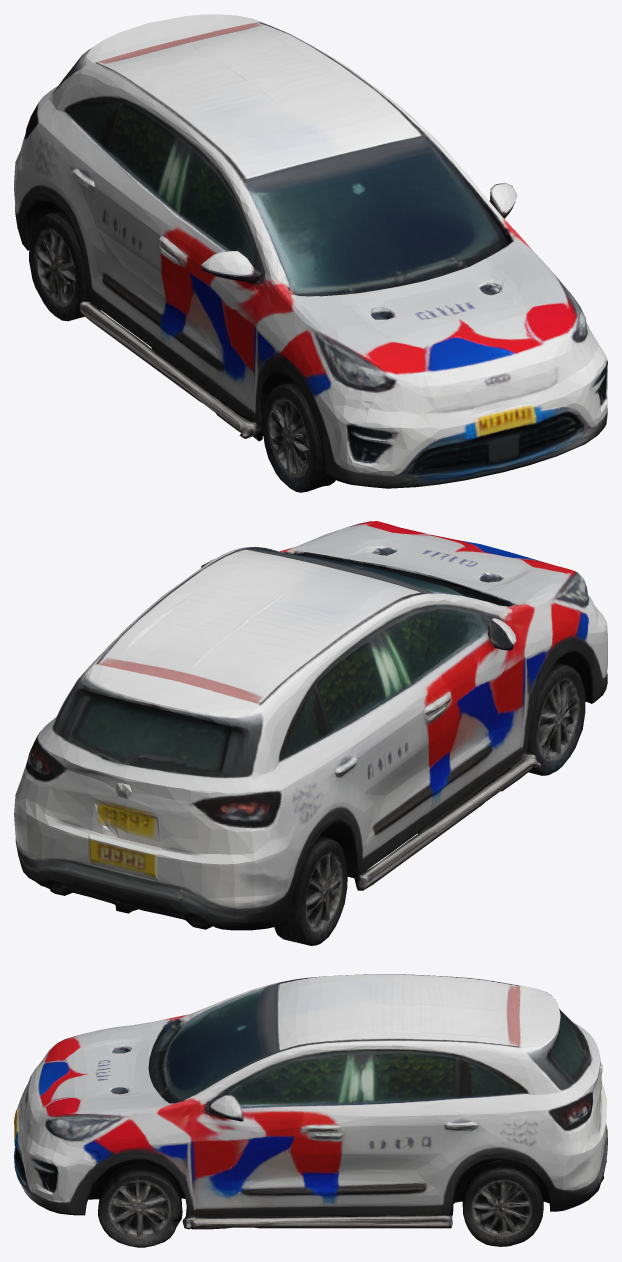
Rendered from car5.glb.
The picture shows the model from 3 angles, top to bottom: view 1: azimuth 30°, elevation 25°; view 2: azimuth 150°, elevation 25°; view 3: azimuth 270°, elevation 25°; orthographic projection. The views are drawn at different scales.
Parts seen in each view (by area): view 1: world; view 2: world; view 3: world.
Boxes of the visible parts, bbox=[...] form: world: bbox=[14, 14, 607, 492]; world: bbox=[14, 521, 607, 945]; world: bbox=[14, 974, 607, 1247].
Size of the model in its own units: 0.4696 by 0.3568 by 0.9999.
1 material, 1 textured.
